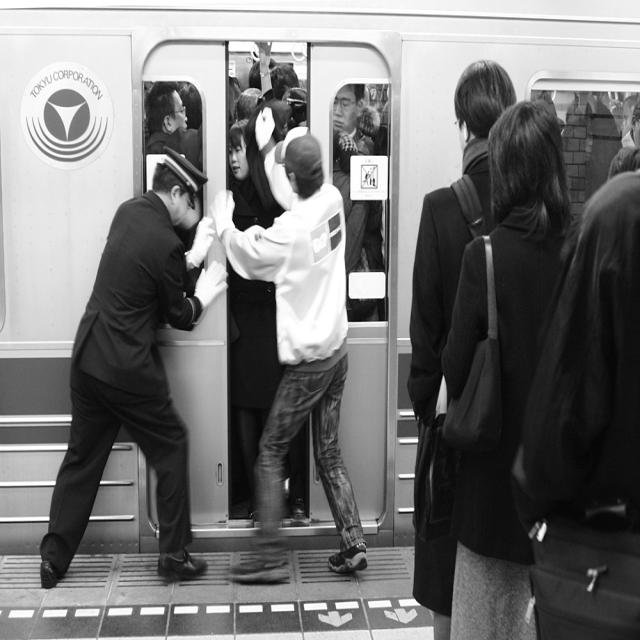body: (29, 136, 230, 594), (212, 113, 377, 595), (445, 95, 582, 639), (402, 56, 519, 640), (519, 161, 639, 640), (140, 50, 391, 155), (225, 117, 284, 518), (550, 34, 640, 204), (332, 155, 390, 322)
